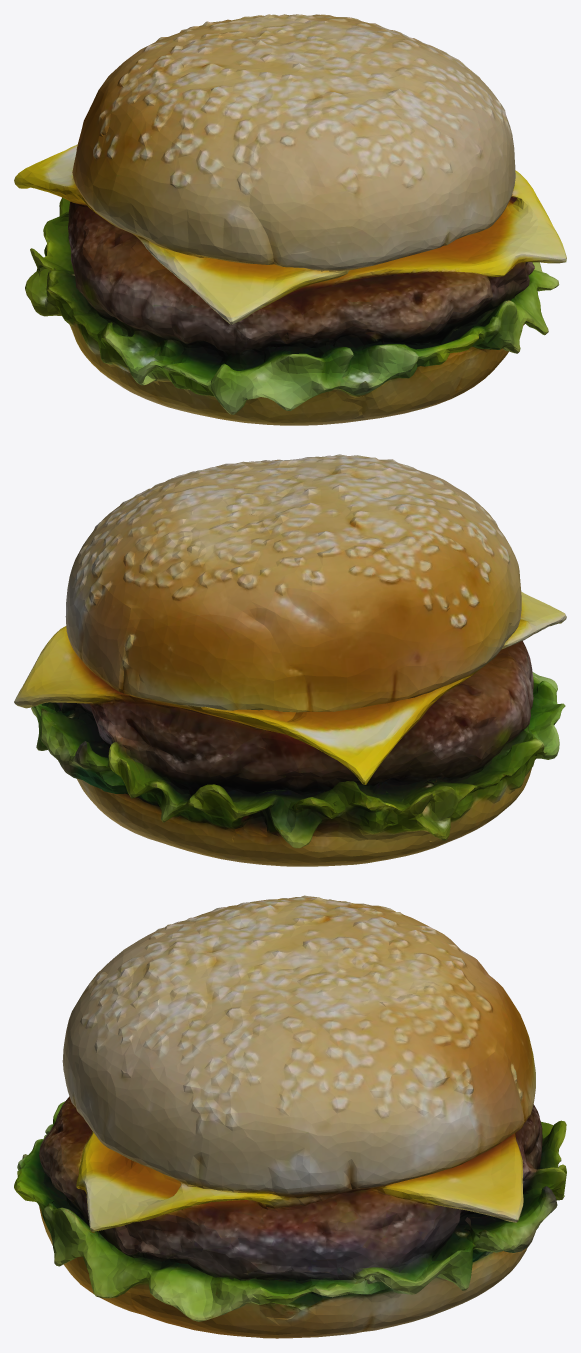
File: burger.glb
3 views of the same model, one above another, from view 1: azimuth 30°, elevation 25°; view 2: azimuth 150°, elevation 25°; view 3: azimuth 270°, elevation 25° (orthographic). The views are drawn at different scales.
Parts seen in each view (by area): view 1: geometry_0; view 2: geometry_0; view 3: geometry_0.
Part boxes in pixels (x1,y1,x2,y2): geometry_0: (14, 14, 566, 425); geometry_0: (14, 454, 566, 866); geometry_0: (14, 895, 566, 1338).
Size of the model in its own units: 0.949 by 0.5914 by 0.9848.
Materials: 1 (1 with a texture image).
